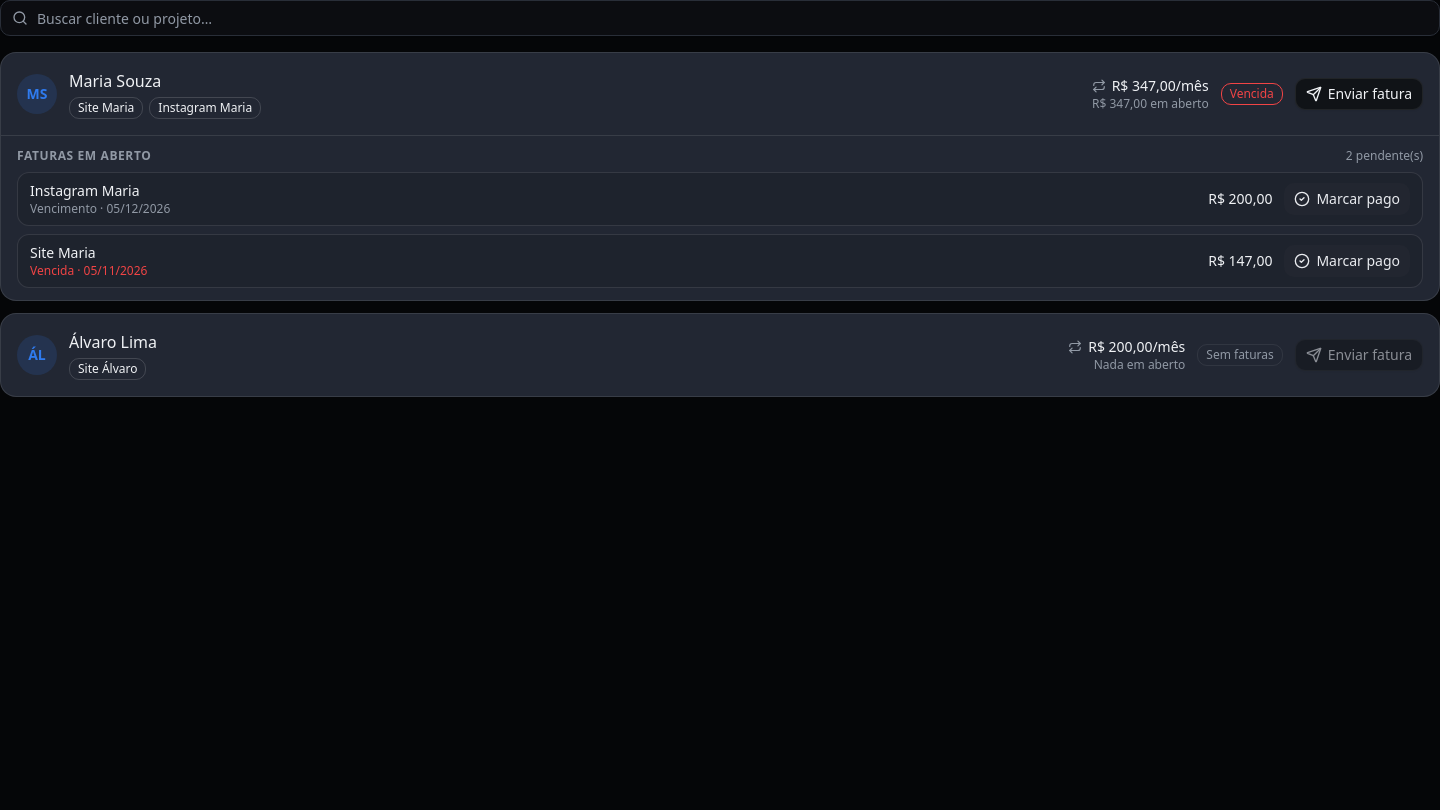
it: lista de clientes do Financeiro › clicar no cliente abre o detalhe com projetos e histórico completo
What coordinates should you click on to do the following:
click the button "Maria Souza"
I would click on:
 (115, 81)
Its box is [69,69,161,93].
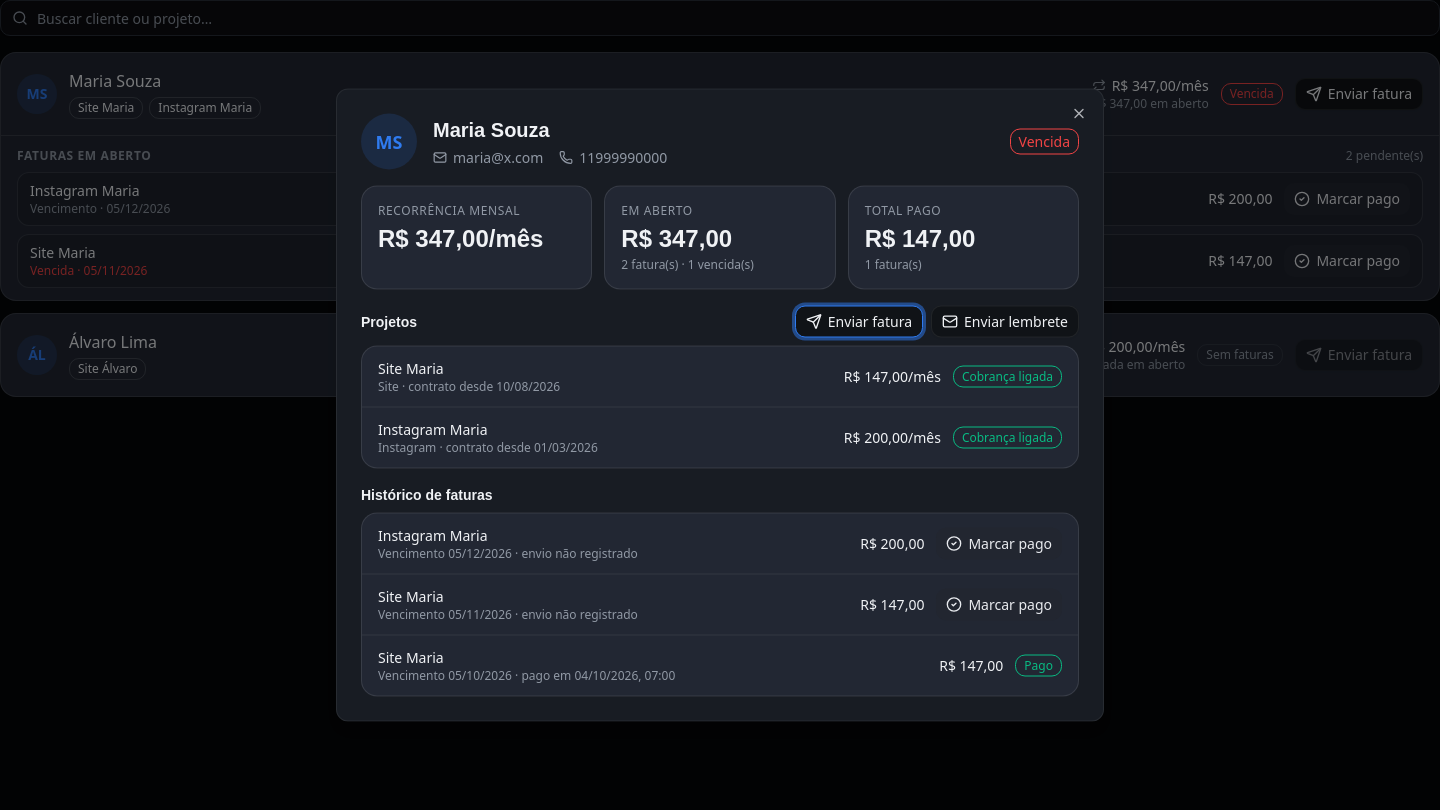
Check: the heading "Histórico de faturas" is shown, box [361,486,492,502]
Check: the text "maria@x.com" is shown, box [433,148,543,168]
Check: the text "Vencimento 05/12/2026 · envio não registrado" is shown 3 times, box [378,544,638,562]; [378,606,638,622]; [378,666,675,684]
